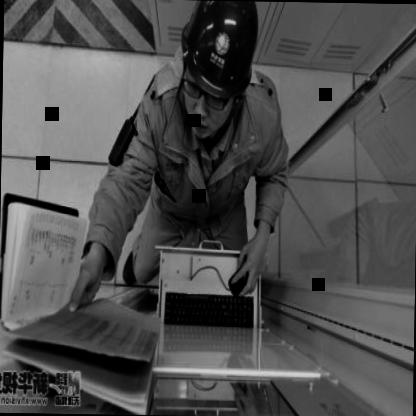helmet: (172, 0, 265, 153)
